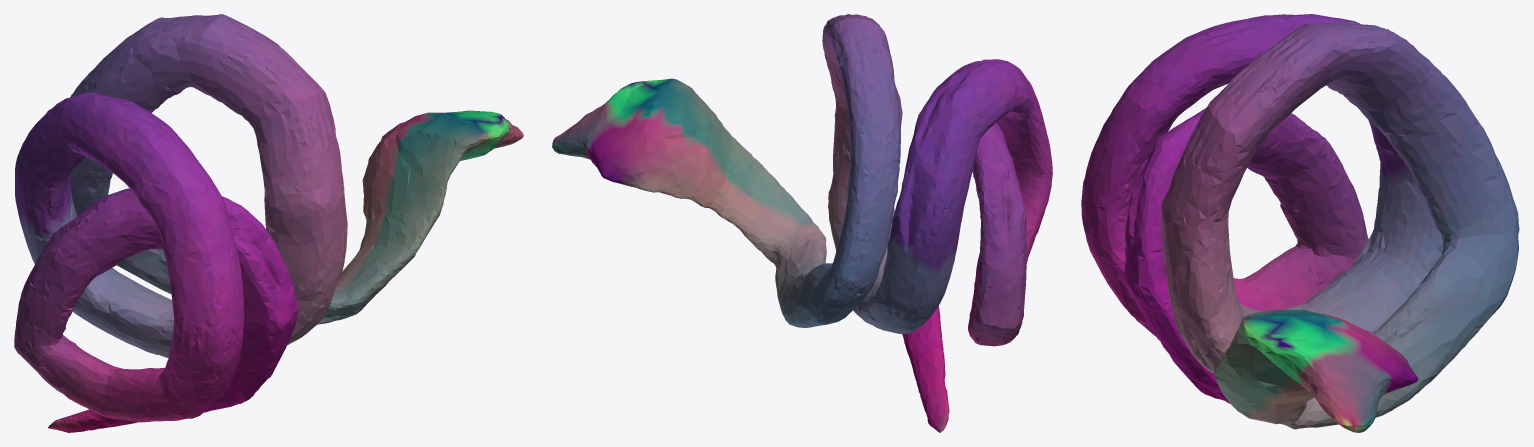
The model's file is snake-6.off.obj.
The picture shows the model from 3 angles, left to right: view 1: azimuth 30°, elevation 25°; view 2: azimuth 150°, elevation 25°; view 3: azimuth 270°, elevation 25°; orthographic projection. The views are drawn at different scales.
Size of the model in its own units: 1.34 by 1.01 by 0.8923.
